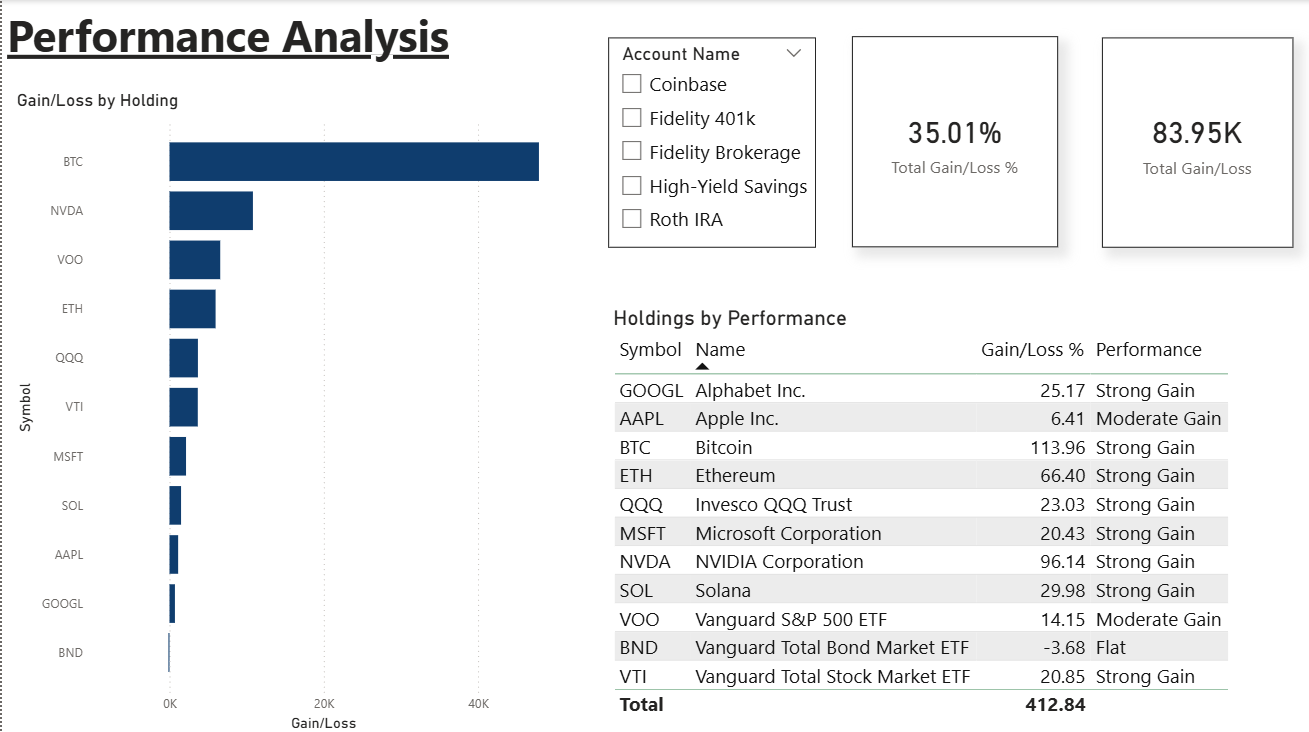

The dashboard page shown, as its layout file describes it:
{"tool":"powerbi","page":{"name":"Performance Analysis","canvas":[1280,720],"ordinal":1},"visuals":[{"type":"textbox","box":[10,0,280,280],"z":0},{"type":"textbox","box":[0,0,470.8,69.7],"z":1000},{"type":"tableEx","title":"Holdings by Performance","fields":{"Values":["v_holding_performance.symbol","v_holding_performance.asset_name","Sum(v_holding_performance.gain_loss_pct)","v_holding_performance.performance_category"]},"box":[593.1,298.4,639.5,421.9],"z":2000},{"type":"clusteredBarChart","title":"Gain/Loss by Holding","fields":{"Category":["v_holding_performance.symbol"],"Y":["Sum(v_holding_performance.gain_loss)"]},"box":[9.8,88,546.6,632.2],"z":3000},{"type":"card","fields":{"Values":["_Measures.Total Gain Loss Pct"]},"box":[831.5,35.5,201.8,206.7],"z":5000},{"type":"card","fields":{"Values":["Sum(v_holding_performance.gain_loss)"]},"box":[1076.1,36.7,187.1,205.4],"z":6000},{"type":"slicer","fields":{"Values":["v_holding_performance.account_name"]},"box":[593.1,36.7,203,205.4],"z":6002}]}

Visuals, with their boxes in screenshot pixels (x1, y1, x2, y2), scaled from the page's 1280x720 canvas onto the 1309x732 screenshot:
textbox: [10, 0, 297, 285]
textbox: [0, 0, 481, 71]
"Holdings by Performance" tableEx: [607, 303, 1261, 731]
"Gain/Loss by Holding" clusteredBarChart: [10, 89, 569, 731]
card - _Measures.Total Gain Loss Pct: [850, 36, 1057, 246]
card - Sum(v_holding_performance.gain_loss): [1100, 37, 1292, 246]
slicer - v_holding_performance.account_name: [607, 37, 814, 246]
